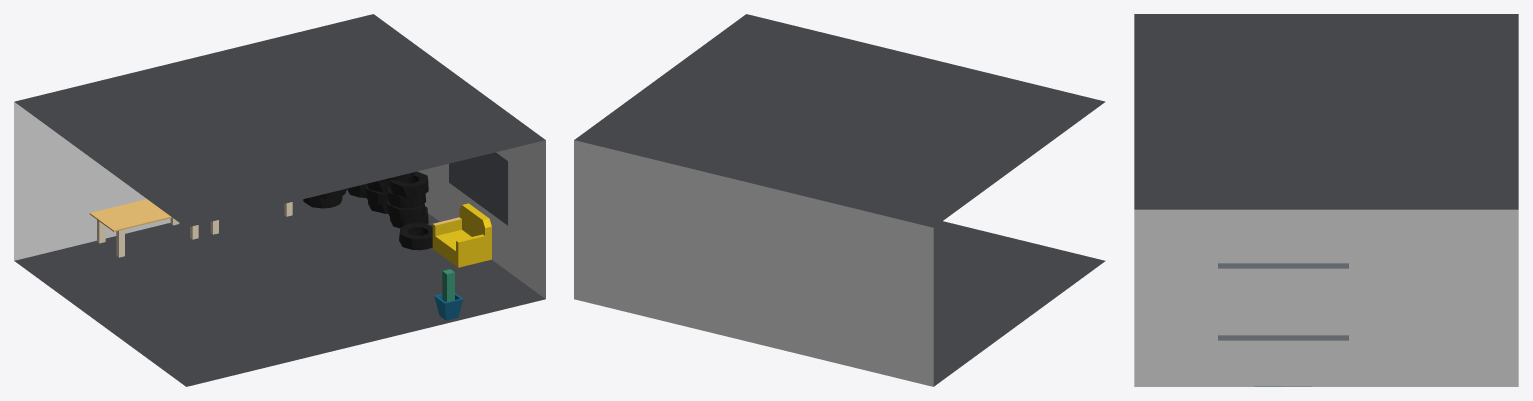
Rendered from Garage.fbx.
3 views of the same model, side by side, from view 1: azimuth 30°, elevation 25°; view 2: azimuth 150°, elevation 25°; view 3: azimuth 270°, elevation 25° (orthographic). The views are drawn at different scales.
Visible parts, largest first — view 1: rak.002; view 2: rak.002; view 3: rak.002.
Boxes of the visible parts, bbox=[...] form: rak.002: bbox=[14, 14, 545, 386]; rak.002: bbox=[574, 14, 1105, 386]; rak.002: bbox=[1134, 14, 1518, 386].
Size of the model in its own units: 2206 by 909 by 1783.
